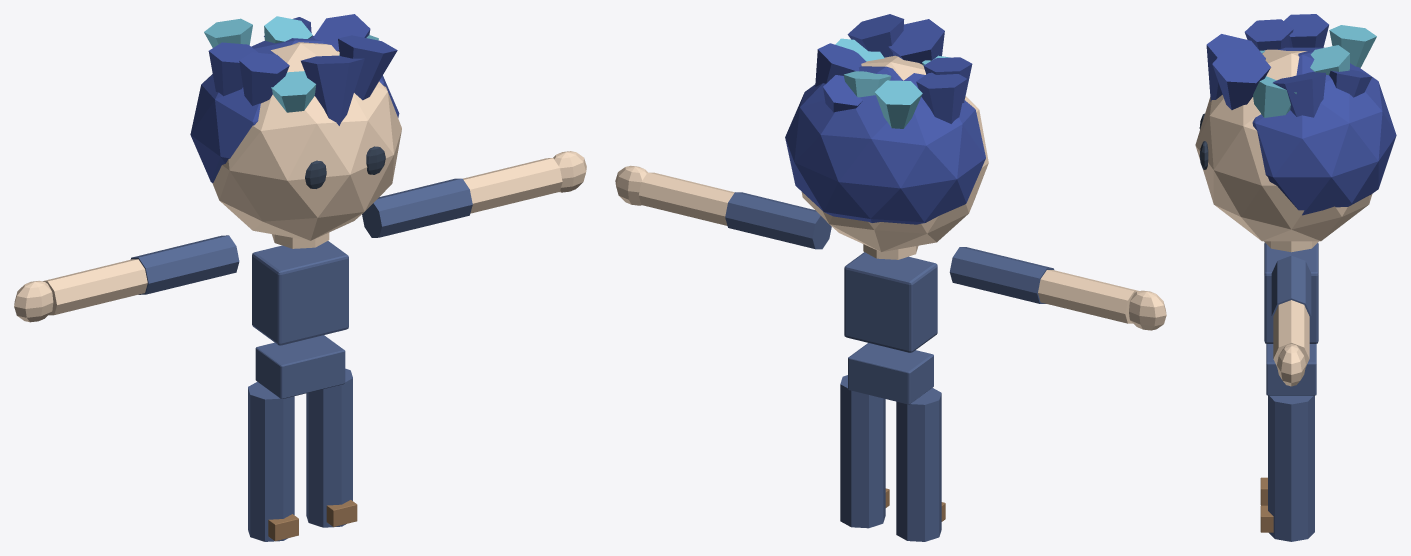
Rendered from rizer.glb.
The picture shows the model from 3 angles, left to right: view 1: azimuth 30°, elevation 25°; view 2: azimuth 150°, elevation 25°; view 3: azimuth 270°, elevation 25°; orthographic projection. The views are drawn at different scales.
Parts seen in each view (by area): view 1: Rizer; view 2: Rizer; view 3: Rizer.
Part boxes in pixels (x1,y1,x2,y2): Rizer: (14,14,586,541); Rizer: (615,14,1166,541); Rizer: (1195,14,1396,541).
Size of the model in its own units: 1.77 by 1.47 by 0.557.
